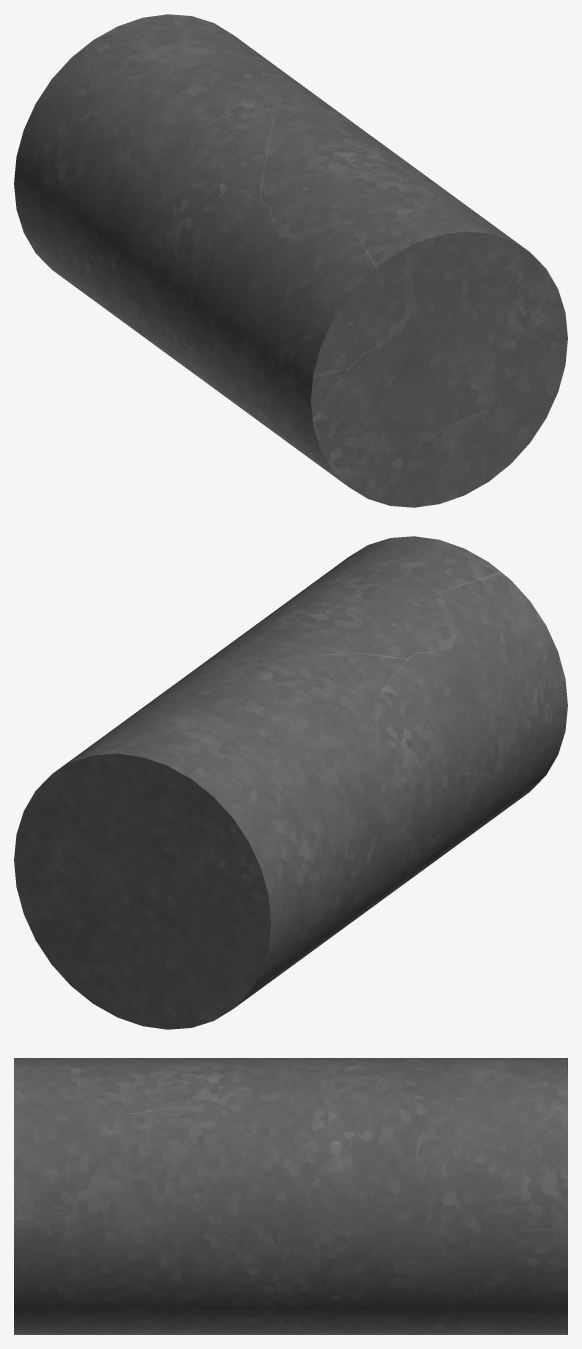
Rendered from cast_iron_whole.fbx.
The picture shows the model from 3 angles, top to bottom: view 1: azimuth 30°, elevation 25°; view 2: azimuth 150°, elevation 25°; view 3: azimuth 270°, elevation 25°; orthographic projection. The views are drawn at different scales.
Parts seen in each view (by area): view 1: cast_iron_whole; view 2: cast_iron_whole; view 3: cast_iron_whole.
Part boxes in pixels (<box>): cast_iron_whole: <box>14,14,567,507</box>; cast_iron_whole: <box>14,536,567,1029</box>; cast_iron_whole: <box>14,1058,567,1334</box>.
Bounding box in the file's own units: 2 × 2 × 4.
